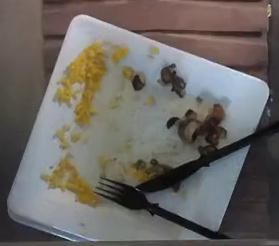beans: (177, 102, 225, 144)
rice: (56, 41, 105, 124), (43, 159, 99, 206)
unknown: (160, 62, 184, 97)
